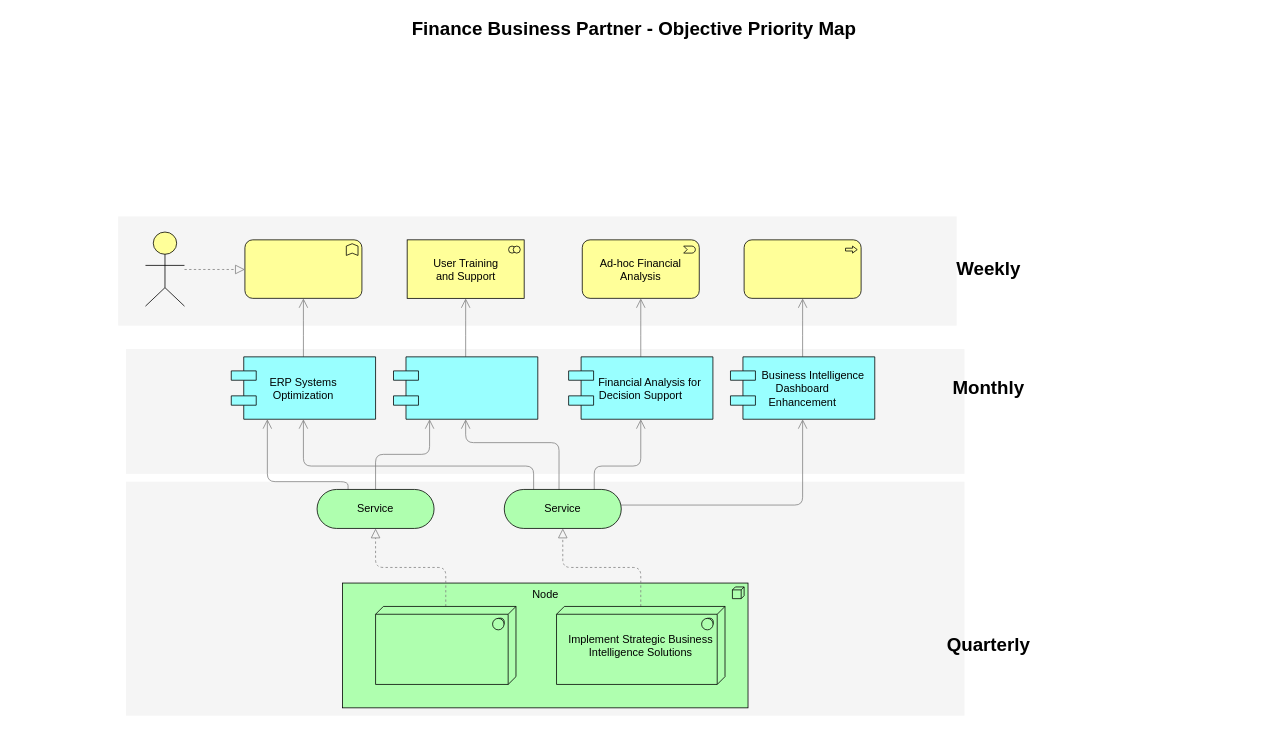
The diagram is 1267 pixels wide and 729 high, and some of its shapes have lost their labels. Here are the shapes that lost their labels. From the top down, the centre of each, then its label:
At point (303, 268): "Data Validation and Cleansing".
At point (802, 268): "Conduct Dashboard Performance Review".
At point (465, 387): "Continuous Process Improvement Initiatives".
At point (445, 645): "Enhance ERP Systems Efficiency".
